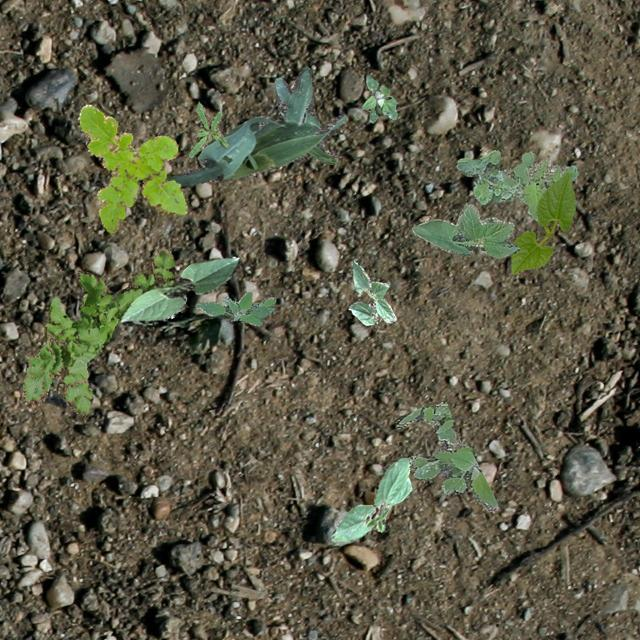crop: (164, 66, 346, 188), (120, 256, 240, 324), (510, 170, 574, 274), (330, 458, 410, 540), (411, 202, 518, 258), (348, 260, 396, 324)
weed: (22, 247, 175, 416), (77, 104, 186, 232), (379, 401, 498, 512), (456, 148, 578, 220), (196, 290, 274, 324), (188, 102, 228, 156), (362, 75, 396, 122)
